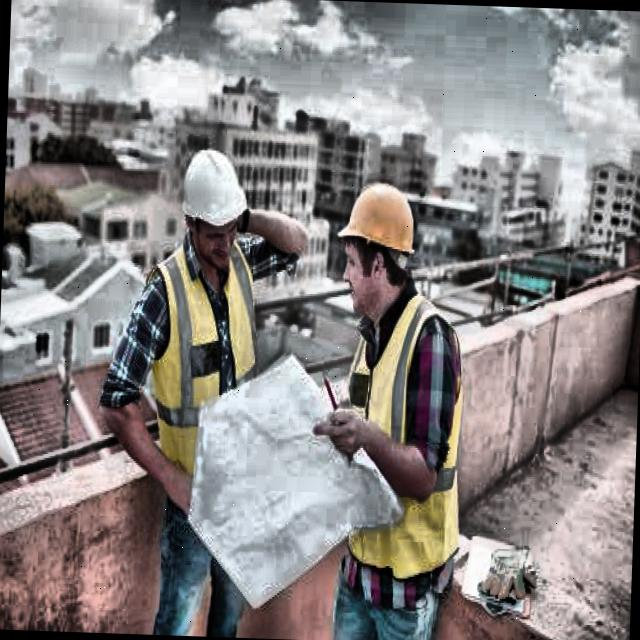helmet: (326, 171, 419, 315), (170, 139, 254, 278)
